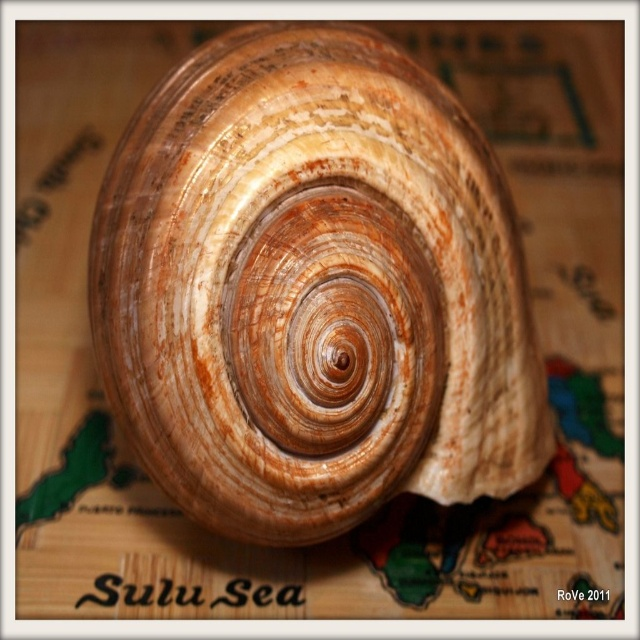Snail: (86, 20, 553, 549)
